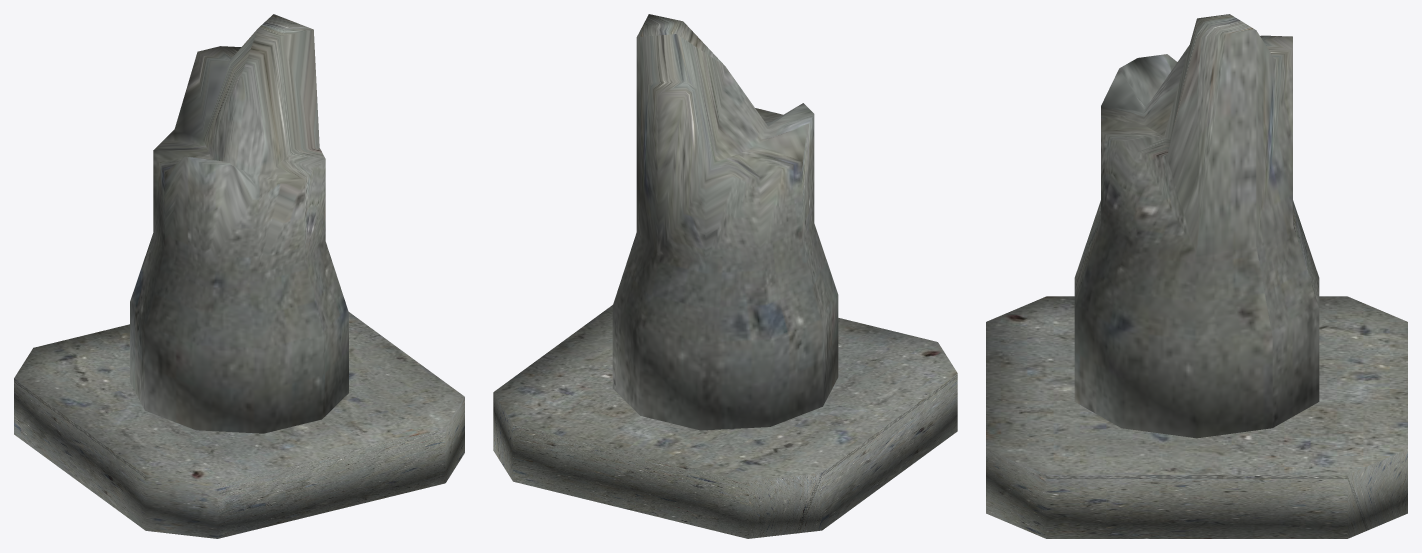
File: pillier de merde cassé.fbx
3 renders of one model, left to right at view 1: azimuth 30°, elevation 25°; view 2: azimuth 150°, elevation 25°; view 3: azimuth 270°, elevation 25°, orthographic. The views are drawn at different scales.
Visible parts, largest first — view 1: pCube3; view 2: pCube3; view 3: pCube3.
Part boxes in pixels (bbox=[...]): pCube3: bbox=[14, 14, 464, 538]; pCube3: bbox=[493, 14, 957, 538]; pCube3: bbox=[986, 14, 1407, 538].
Size of the model in its own units: 4.99 by 5.93 by 4.99.
Materials: 1 (1 with a texture image).
